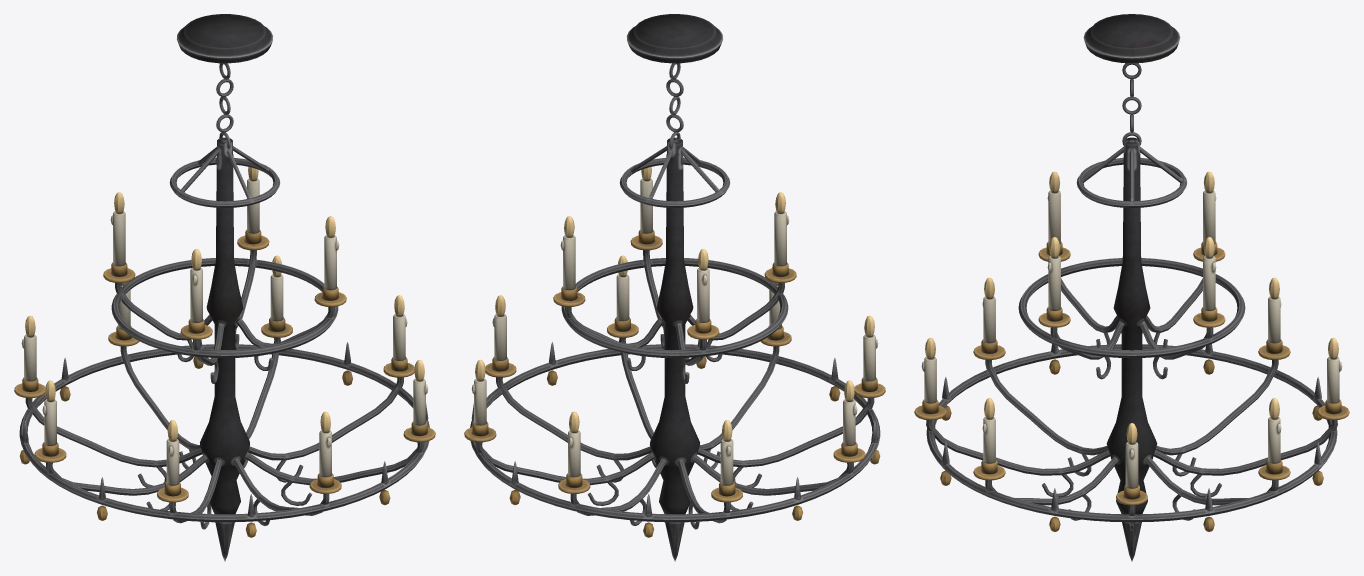
File: Chandelier.fbx
3 views of the same model, side by side, from view 1: azimuth 30°, elevation 25°; view 2: azimuth 150°, elevation 25°; view 3: azimuth 270°, elevation 25° (orthographic).
Visible parts, largest first — view 1: Chandelier_Main, Chandelier_Glow; view 2: Chandelier_Main, Chandelier_Glow; view 3: Chandelier_Main, Chandelier_Glow.
Boxes of the visible parts, <box> form: Chandelier_Main: <box>14,14,435,561</box>; Chandelier_Glow: <box>25,167,424,441</box>; Chandelier_Main: <box>464,14,885,561</box>; Chandelier_Glow: <box>475,167,874,441</box>; Chandelier_Main: <box>914,14,1349,561</box>; Chandelier_Glow: <box>925,171,1338,444</box>.
Bounding box in the file's own units: 378 × 508 × 378.
